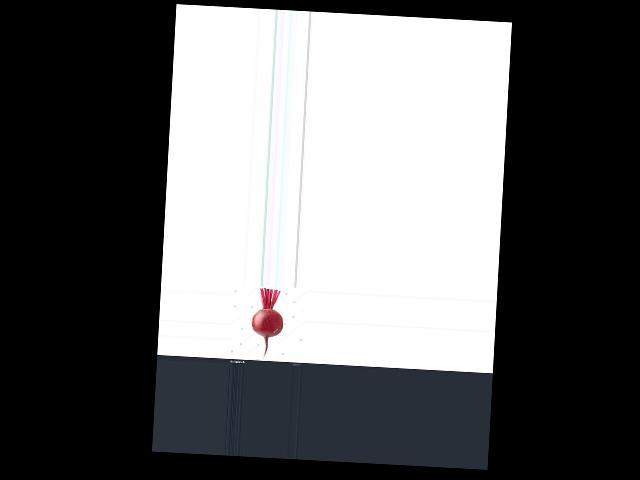beet: (250, 287, 285, 359)
